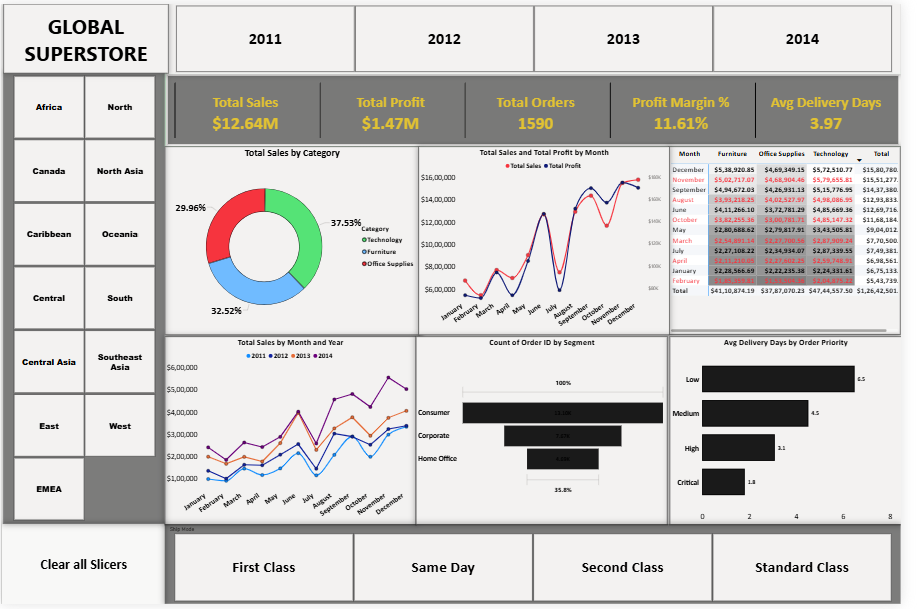

Layout of this report page (visuals, bound fields, positions):
{"tool":"powerbi","page":{"name":"Page 1","canvas":[2400,1600],"ordinal":0},"visuals":[{"type":"cardVisual","fields":{"Data":["Global_Superstore2 - Global_Superstore2.Total Sales","Global_Superstore2 - Global_Superstore2.Total Profit","Global_Superstore2 - Global_Superstore2.Total Orders","Global_Superstore2 - Global_Superstore2.Profit Margin %","Global_Superstore2 - Global_Superstore2.Avg Delivery Days"]},"box":[438.6,185.7,1961.4,192.9],"z":0},{"type":"slicer","fields":{"Values":["Global_Superstore2 - Global_Superstore2.Order Date.Variation.Date Hierarchy.Year"]},"box":[444,0,1956,186],"z":1000},{"type":"donutChart","fields":{"Category":["Global_Superstore2 - Global_Superstore2.Category"],"Y":["Global_Superstore2 - Global_Superstore2.Total Sales"]},"box":[436.2,378.7,678.7,502.1],"z":2000},{"type":"lineChart","fields":{"Category":["Global_Superstore2 - Global_Superstore2.Order Date.Variation.Date Hierarchy.Month"],"Y":["Global_Superstore2 - Global_Superstore2.Total Sales"],"Series":["Global_Superstore2 - Global_Superstore2.Order Date.Variation.Date Hierarchy.Year"]},"box":[438,886,670,502],"z":3000},{"type":"pivotTable","fields":{"Rows":["Global_Superstore2 - Global_Superstore2.Order Date.Variation.Date Hierarchy.Month"],"Columns":["Global_Superstore2 - Global_Superstore2.Category"],"Values":["Global_Superstore2 - Global_Superstore2.Total Sales"]},"box":[1781.4,380,618.6,501.4],"z":4000},{"type":"lineChart","fields":{"Y2":["Global_Superstore2 - Global_Superstore2.Total Profit"],"Y":["Global_Superstore2 - Global_Superstore2.Total Sales"],"Category":["Global_Superstore2 - Global_Superstore2.Order Date.Variation.Date Hierarchy.Month"]},"box":[1112,379.2,670,502.5],"z":5000},{"type":"funnel","fields":{"Category":["Global_Superstore2 - Global_Superstore2.Segment"],"Y":["Count(Global_Superstore2 - Global_Superstore2.Order ID)"]},"box":[1108,886,670,502],"z":6000},{"type":"barChart","fields":{"Category":["Global_Superstore2 - Global_Superstore2.Order Priority"],"Y":["Global_Superstore2 - Global_Superstore2.Avg Delivery Days"]},"box":[1782,886,618,502],"z":7000},{"type":"slicer","fields":{"Values":["Global_Superstore2 - Global_Superstore2.Region"]},"box":[6.4,183,429.8,1202.1],"z":8000},{"type":"actionButton","box":[4.3,1385.1,434,214.9],"z":10000},{"type":"textbox","box":[5,0,440,185],"z":10001},{"type":"slicer","fields":{"Values":["Global_Superstore2 - Global_Superstore2.Ship Mode"]},"box":[438.3,1387.2,1961.7,212.8],"z":10002}]}

Visuals, with their boxes in screenshot pixels (x1, y1, x2, y2), scaled from the page's 2400x1600 canvas onto the 917x609 screenshot:
cardVisual - Global_Superstore2 - Global_Superstore2.Total Sales x Global_Superstore2 - Global_Superstore2.Total Profit: <region>168, 71, 916, 144</region>
slicer - Global_Superstore2 - Global_Superstore2.Order Date.Variation.Date Hierarchy.Year: <region>170, 0, 916, 71</region>
donutChart - Global_Superstore2 - Global_Superstore2.Category x Global_Superstore2 - Global_Superstore2.Total Sales: <region>167, 144, 426, 335</region>
lineChart - Global_Superstore2 - Global_Superstore2.Order Date.Variation.Date Hierarchy.Month x Global_Superstore2 - Global_Superstore2.Total Sales: <region>167, 337, 423, 528</region>
pivotTable - Global_Superstore2 - Global_Superstore2.Order Date.Variation.Date Hierarchy.Month x Global_Superstore2 - Global_Superstore2.Category: <region>681, 145, 916, 335</region>
lineChart - Global_Superstore2 - Global_Superstore2.Total Profit x Global_Superstore2 - Global_Superstore2.Total Sales: <region>425, 144, 681, 336</region>
funnel - Global_Superstore2 - Global_Superstore2.Segment x Count(Global_Superstore2 - Global_Superstore2.Order ID): <region>423, 337, 679, 528</region>
barChart - Global_Superstore2 - Global_Superstore2.Order Priority x Global_Superstore2 - Global_Superstore2.Avg Delivery Days: <region>681, 337, 916, 528</region>
slicer - Global_Superstore2 - Global_Superstore2.Region: <region>2, 70, 167, 527</region>
actionButton: <region>2, 527, 167, 608</region>
textbox: <region>2, 0, 170, 70</region>
slicer - Global_Superstore2 - Global_Superstore2.Ship Mode: <region>167, 528, 916, 608</region>
